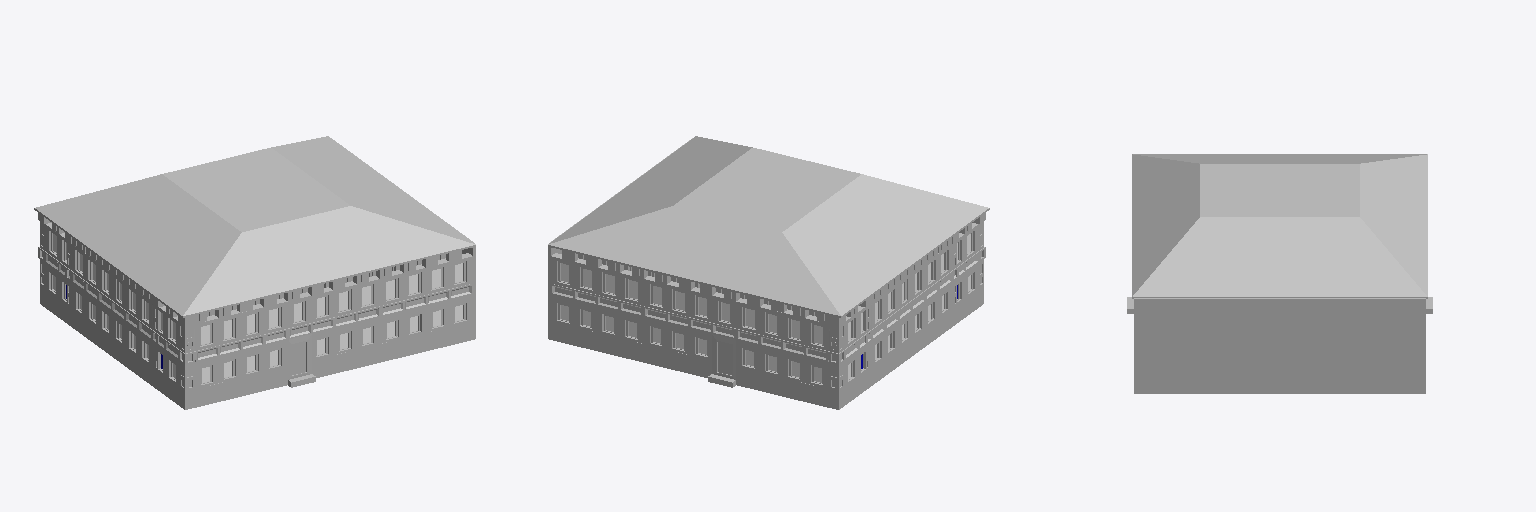
File: typograph.obj
The picture shows the model from 3 angles: view 1: azimuth 30°, elevation 25°; view 2: azimuth 150°, elevation 25°; view 3: azimuth 270°, elevation 25°; orthographic projection.
Visible parts, largest first — view 1: ДомНаУглу; view 2: ДомНаУглу; view 3: ДомНаУглу.
Boxes of the visible parts, x1,y1,x2,y2 form: ДомНаУглу: [34, 136, 475, 409]; ДомНаУглу: [548, 136, 989, 409]; ДомНаУглу: [1127, 154, 1432, 393].
Size of the model in its own units: 15.21 by 6.5 by 13.65.